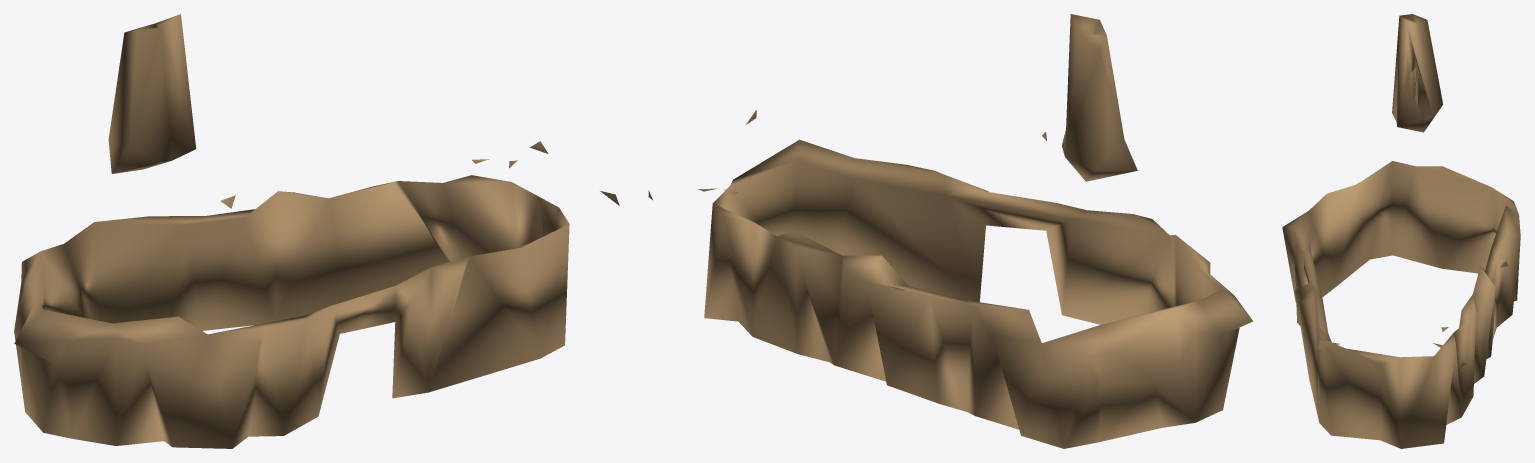
Rendered from carpa_b_lejos.glb.
The picture shows the model from 3 angles, left to right: view 1: azimuth 30°, elevation 25°; view 2: azimuth 150°, elevation 25°; view 3: azimuth 270°, elevation 25°; orthographic projection. The views are drawn at different scales.
Visible parts, largest first — view 1: carpa_b_lejos; view 2: carpa_b_lejos; view 3: carpa_b_lejos.
Part boxes in pixels (x1,y1,x2,y2): carpa_b_lejos: (14, 14, 619, 448); carpa_b_lejos: (648, 14, 1253, 448); carpa_b_lejos: (1282, 14, 1520, 448).
Bounding box in the file's own units: 15.58 × 9.8 × 7.29.
